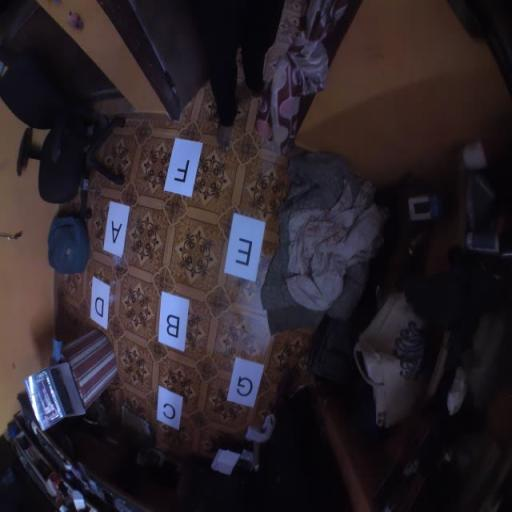A: (104, 200, 130, 259)
B: (158, 291, 190, 352)
C: (156, 385, 184, 432)
D: (90, 275, 111, 331)
E: (224, 211, 266, 282)
F: (164, 136, 202, 198)
G: (226, 356, 265, 410)
